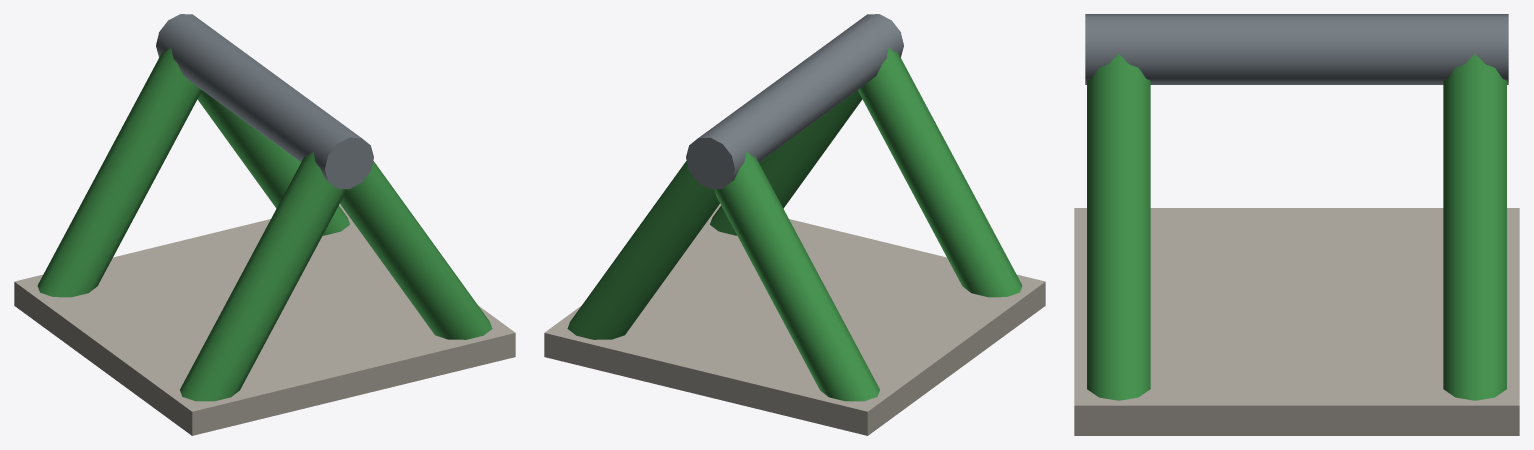
The model's file is Park_SeesawBase.fbx.
The picture shows the model from 3 angles, left to right: view 1: azimuth 30°, elevation 25°; view 2: azimuth 150°, elevation 25°; view 3: azimuth 270°, elevation 25°; orthographic projection. The views are drawn at different scales.
Parts seen in each view (by area): view 1: Park_SeesawBase; view 2: Park_SeesawBase; view 3: Park_SeesawBase.
Part boxes in pixels (left/top/right/bottom): Park_SeesawBase: left=14, top=14, right=515, bottom=435; Park_SeesawBase: left=544, top=14, right=1045, bottom=435; Park_SeesawBase: left=1074, top=14, right=1519, bottom=435.
Size of the model in its own units: 4.2 by 3.28 by 4.
